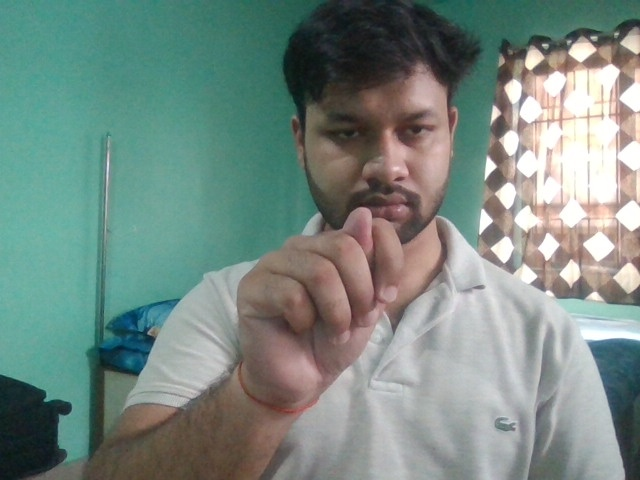Bathroom: (234, 207, 406, 398)
